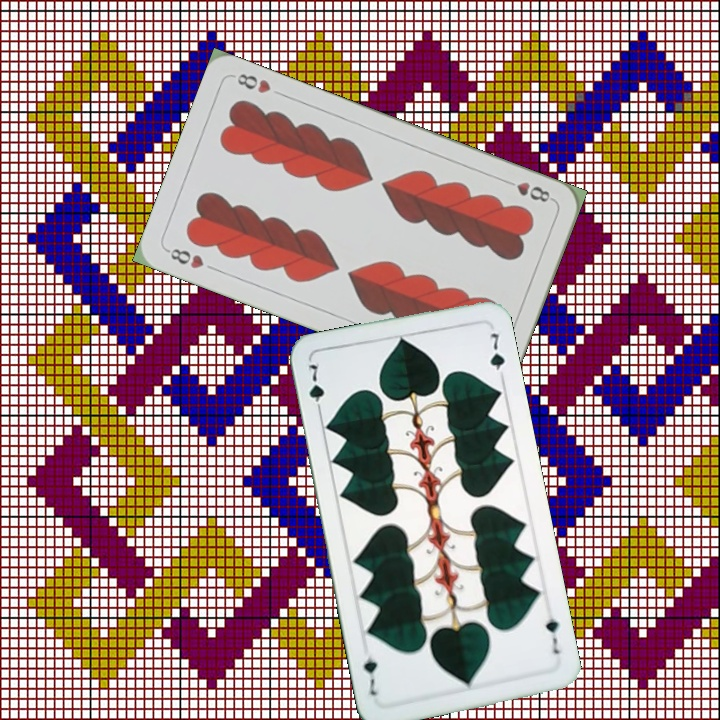G7: (304, 358, 327, 417), (541, 613, 563, 657)
H8: (499, 175, 556, 205), (162, 244, 207, 272)
